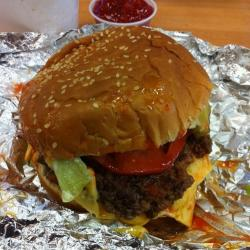burger: (23, 29, 216, 233)
ketchup: (88, 1, 159, 26)
